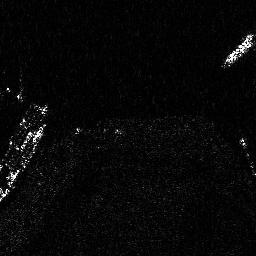ship: (221, 32, 254, 68)
